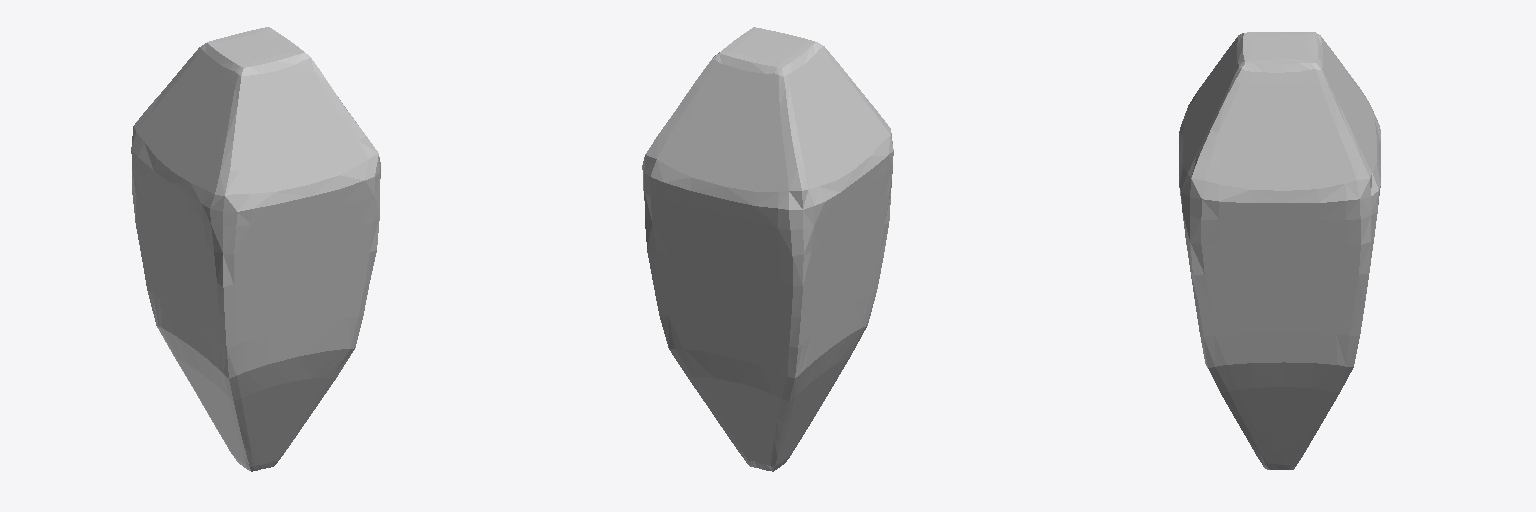
The model's file is GeigerRemastered2.OBJ.
3 views of the same model, side by side, from view 1: azimuth 30°, elevation 25°; view 2: azimuth 150°, elevation 25°; view 3: azimuth 270°, elevation 25° (orthographic).
Visible parts, largest first — view 1: Group22412; view 2: Group22412; view 3: Group22412.
Part boxes in pixels (left/top/right/bottom): Group22412: left=131, top=27, right=380, bottom=471; Group22412: left=642, top=27, right=893, bottom=471; Group22412: left=1179, top=32, right=1380, bottom=469.
Size of the model in its own units: 1.56 by 3.56 by 1.56.